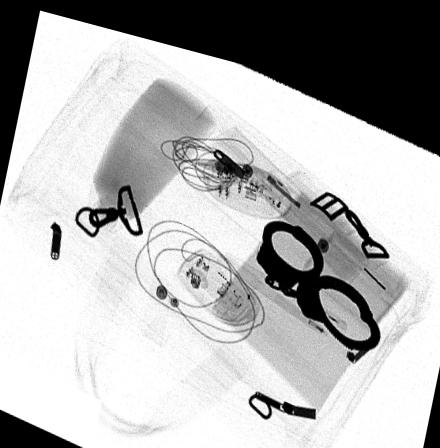HandCuffs: (256, 206, 381, 332)
